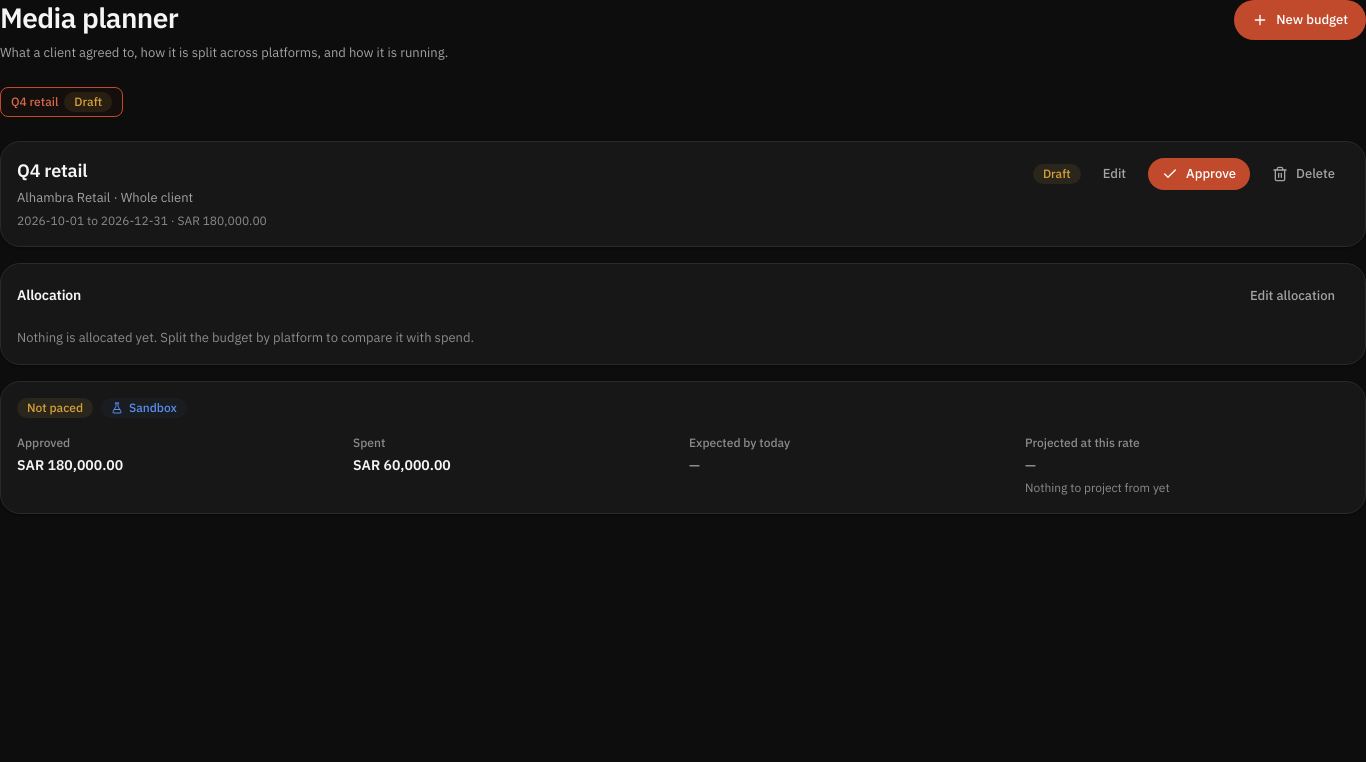
Test: MediaPlannerPage › shows the server’s own refusal rather than a generic failure
Click the button "Edit allocation": x=1292, y=296 x1=1236 y1=280 x2=1349 y2=312
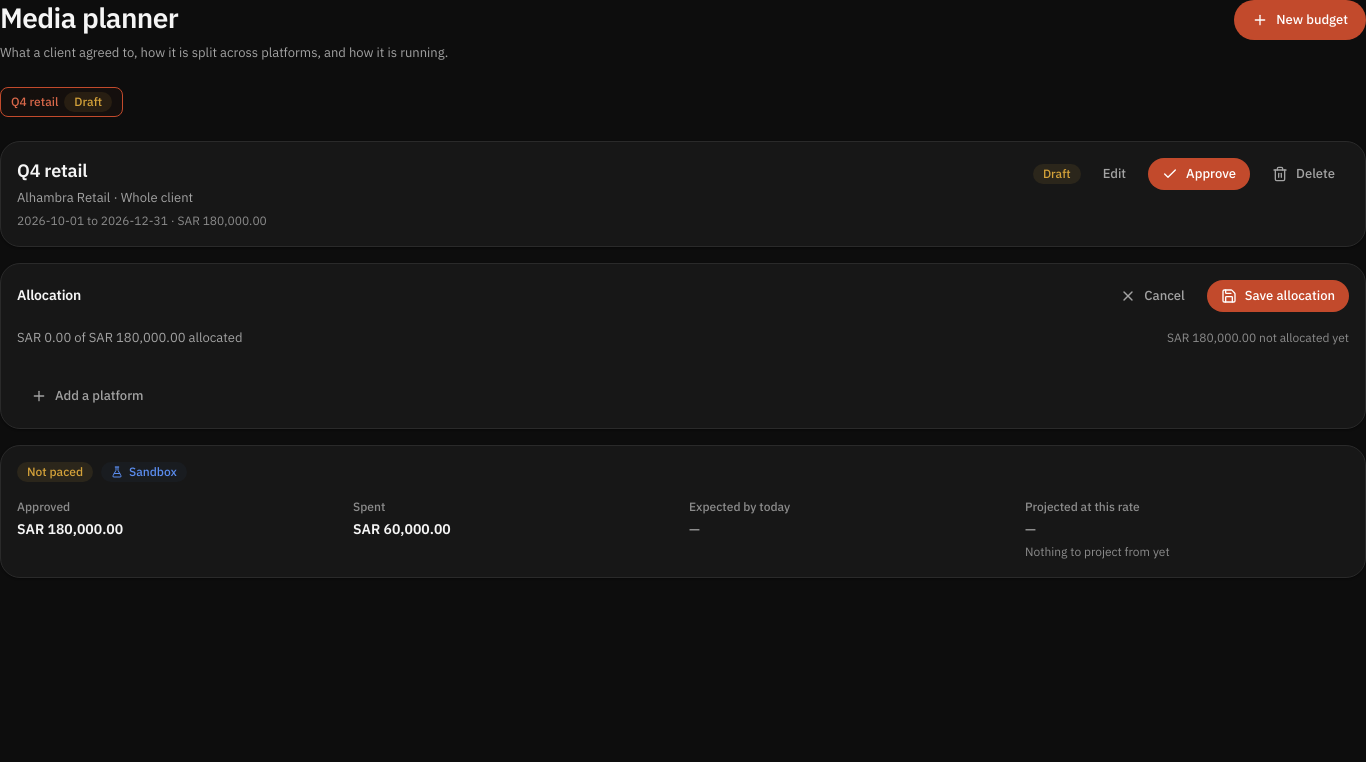
Click the button "Add a platform": x=87, y=396 x1=17 y1=380 x2=158 y2=412
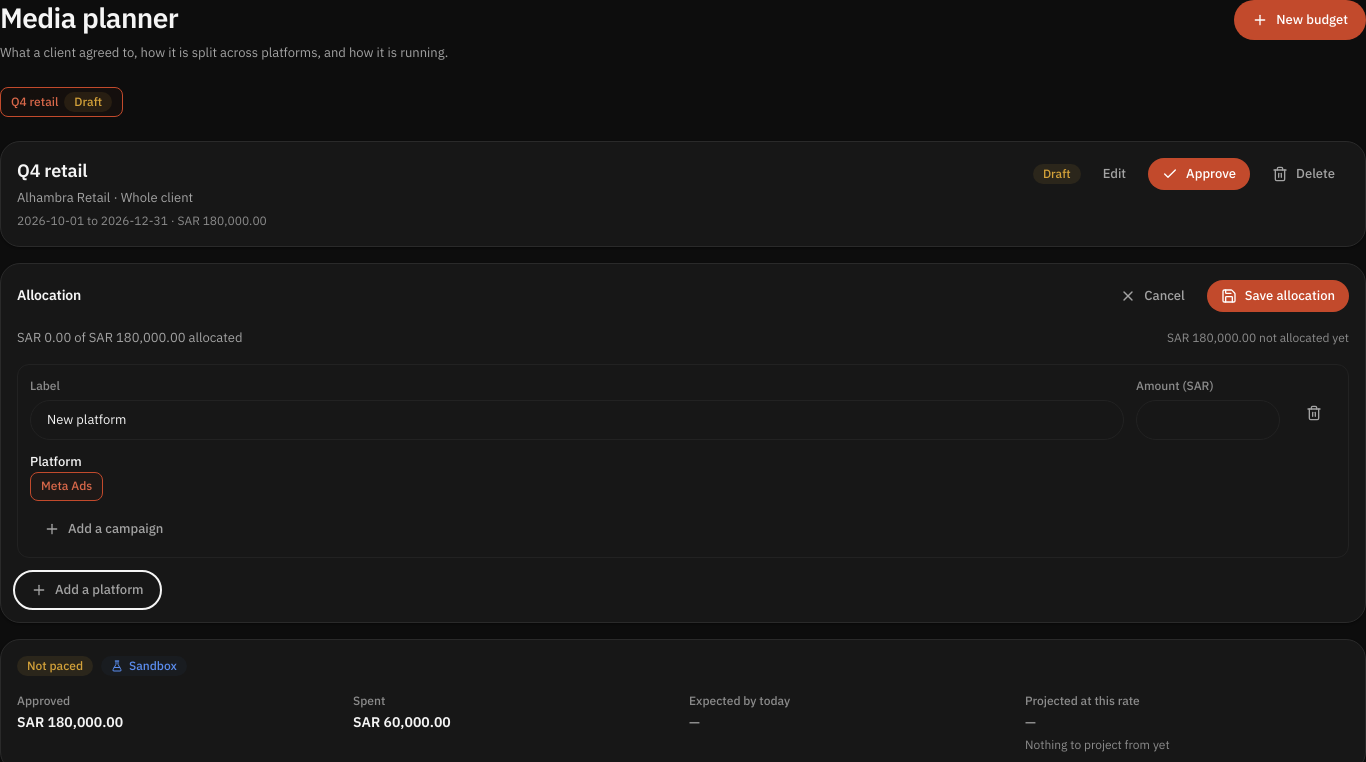
Click the button "Save allocation": x=1278, y=296 x1=1207 y1=280 x2=1349 y2=312
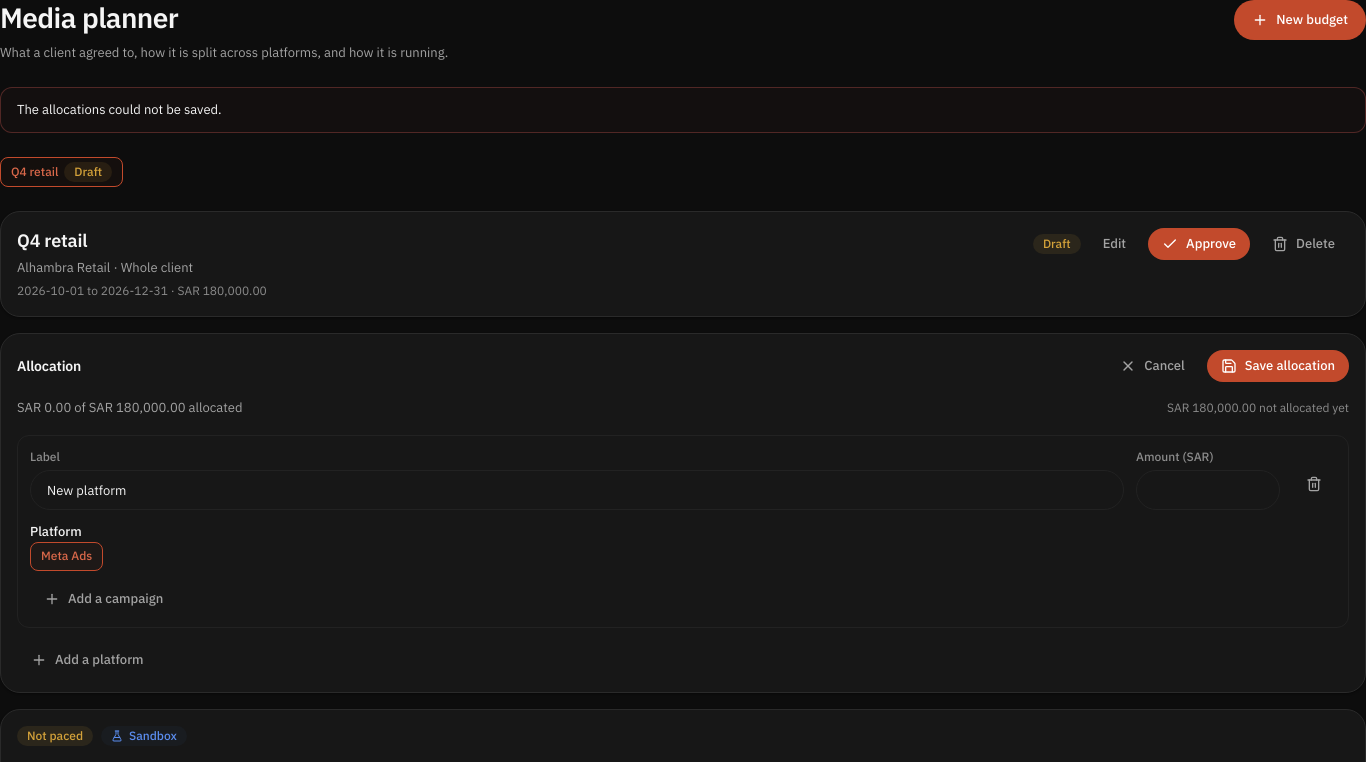
Expected: the text "The allocations could not be saved." is shown, x1=0 y1=87 x2=1365 y2=133
